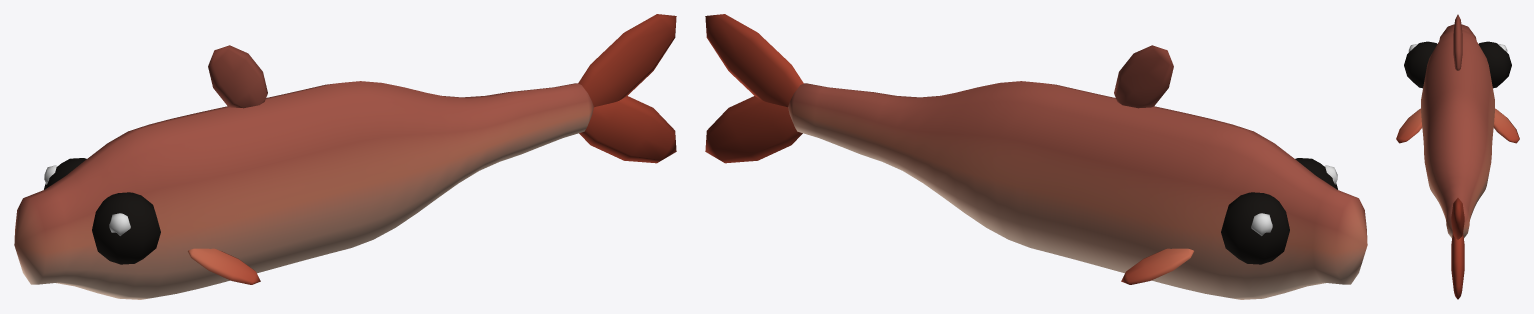
File: Salmon.glb
3 views of the same model, side by side, from view 1: azimuth 30°, elevation 25°; view 2: azimuth 150°, elevation 25°; view 3: azimuth 270°, elevation 25° (orthographic). The views are drawn at different scales.
Parts seen in each view (by area): view 1: Salmon; view 2: Salmon; view 3: Salmon.
Part boxes in pixels (left/top/right/bottom): Salmon: left=14, top=14, right=676, bottom=299; Salmon: left=705, top=14, right=1367, bottom=299; Salmon: left=1396, top=14, right=1519, bottom=299.
Bounding box in the file's own units: 1.43 × 0.4826 × 0.3565.
